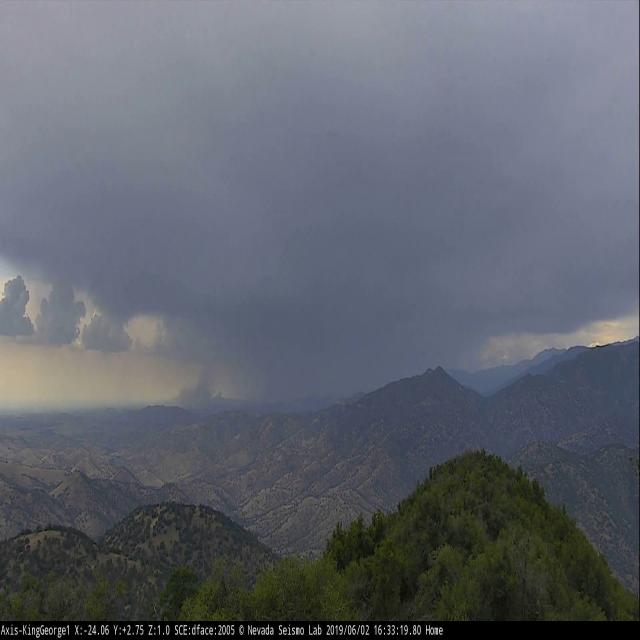smoke: (175, 368, 222, 407)
